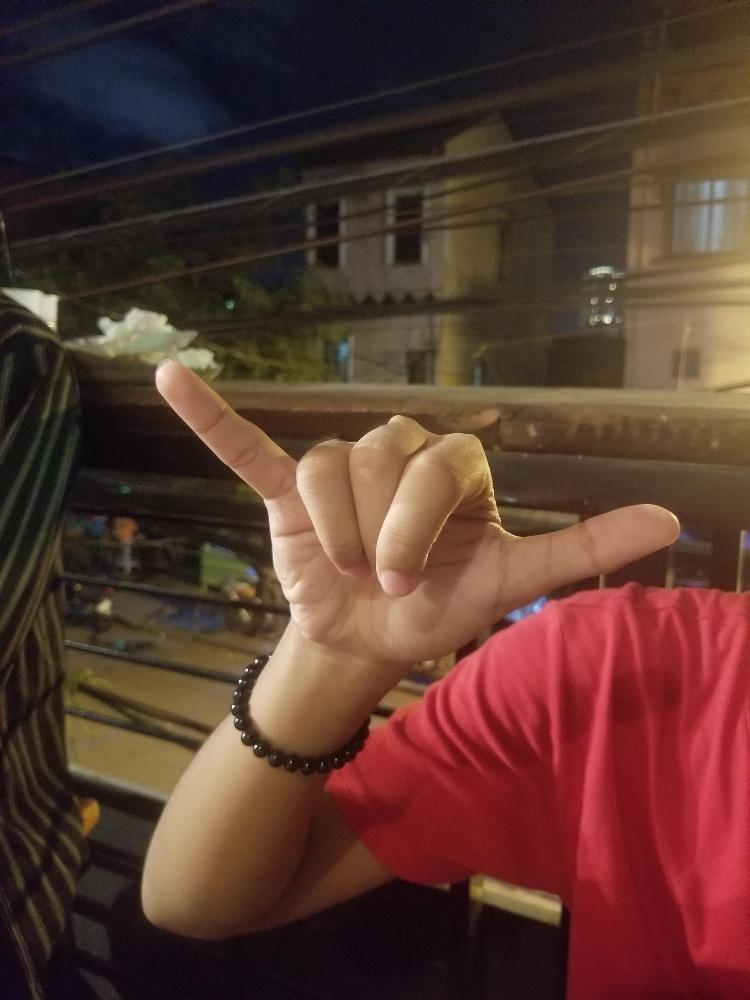y: (152, 354, 674, 659)
